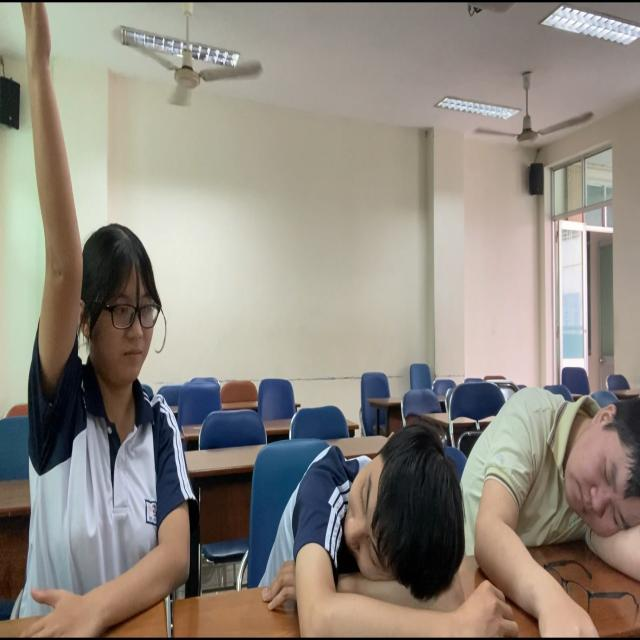raise_hand: (1, 2, 208, 640)
sleep: (254, 417, 532, 640), (421, 318, 640, 584)
